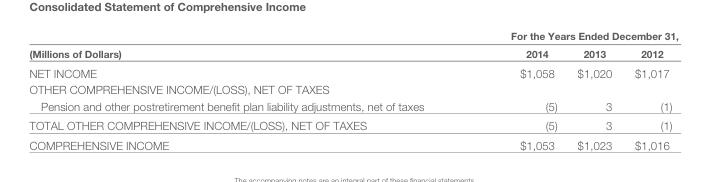table: (28, 29, 677, 151)
table column: (28, 29, 466, 151), (466, 29, 566, 151), (566, 29, 622, 151), (622, 29, 677, 151)
table column header: (28, 29, 677, 62)
table projected row header: (28, 80, 677, 97)
table row: (28, 115, 677, 134), (28, 44, 677, 62), (28, 62, 677, 80), (28, 97, 677, 115), (28, 80, 677, 97), (28, 134, 677, 151), (28, 29, 677, 44)
table spanning cell: (28, 29, 466, 62), (466, 29, 677, 44)
